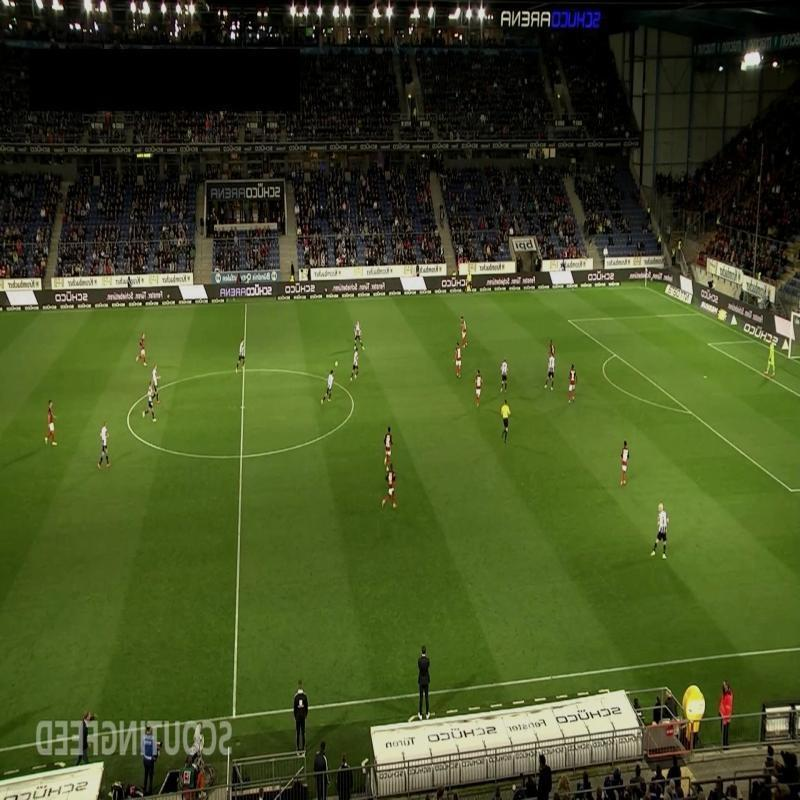1: (638, 280, 652, 294)
10: (608, 346, 623, 364)
11: (682, 403, 702, 422)
12: (785, 484, 799, 498)
13: (239, 295, 252, 309)
14: (237, 362, 251, 376)
15: (234, 447, 248, 462)
16: (224, 704, 246, 730)
2: (693, 306, 707, 320)
3: (748, 334, 762, 348)
7: (702, 337, 716, 351)
9: (562, 312, 576, 326)
c: (120, 412, 135, 428), (345, 396, 359, 410)
